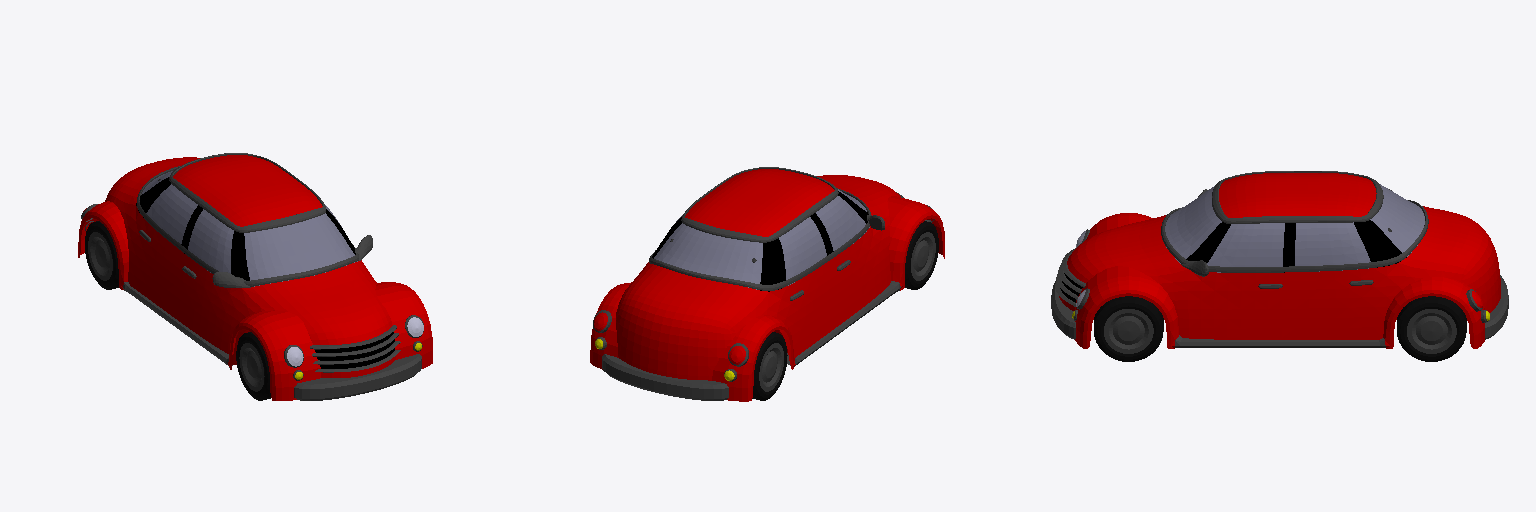
File: coche.obj
3 renders of one model, left to right at view 1: azimuth 30°, elevation 25°; view 2: azimuth 150°, elevation 25°; view 3: azimuth 270°, elevation 25°, orthographic.
Visible parts, largest first — view 1: Car_body.001_Mesh.001, Car_fenders, Car_body.002_Mesh.002, Bumper, Tire.002, Tire.001, Grill, Headlights, Mirrors; view 2: Car_body.001_Mesh.001, Car_fenders, Car_body.002_Mesh.002, Bumper, Tire.001, Tire.002, Taillights; view 3: Car_body.001_Mesh.001, Car_fenders, Tire.003, Tire, Car_body.002_Mesh.002, Bumper, Grill.
Boxes of the visible parts, box(x1,y1,x2,y2) form: Car_body.001_Mesh.001: box(98, 155, 395, 377); Car_fenders: box(78, 201, 432, 400); Car_body.002_Mesh.002: box(137, 153, 358, 286); Bumper: box(294, 354, 421, 400); Tire.002: box(85, 221, 118, 289); Tire.001: box(236, 332, 270, 400); Grill: box(310, 325, 400, 372); Headlights: box(284, 315, 423, 367); Mirrors: box(212, 235, 372, 287); Car_body.001_Mesh.001: box(616, 169, 900, 380); Car_fenders: box(590, 196, 944, 401); Car_body.002_Mesh.002: box(649, 167, 871, 290); Bumper: box(602, 354, 728, 400); Tire.001: box(905, 221, 938, 289); Tire.002: box(752, 332, 787, 400); Taillights: box(593, 310, 748, 366); Car_body.001_Mesh.001: box(1059, 173, 1500, 339); Car_fenders: box(1075, 213, 1484, 348); Tire.003: box(1397, 296, 1466, 361); Tire: box(1094, 296, 1163, 361); Car_body.002_Mesh.002: box(1161, 171, 1428, 272); Bumper: box(1051, 275, 1508, 339); Grill: box(1055, 248, 1085, 306).
Bounding box in the file's own units: 10.42 × 8.45 × 25.69.